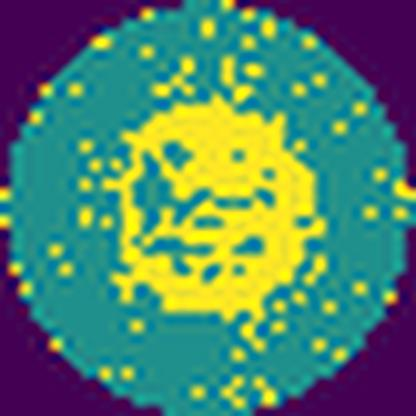Donut: (93, 93, 336, 338)
